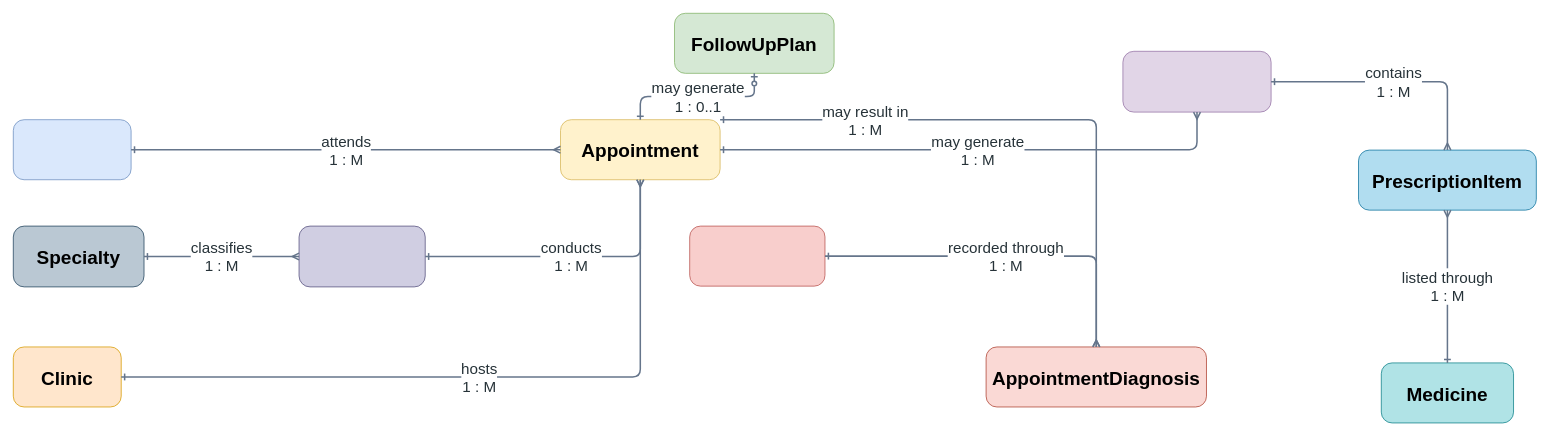
Some shapes in this 1550 by 436 pixel diagram are drawn without their labels. Here are the shapes that lost their labels. From the top down, the box of each, then its label:
(1122, 51, 1271, 112): Prescription
(13, 119, 131, 180): Patient
(298, 225, 425, 287): Clinician
(689, 225, 825, 286): Diagnosis
